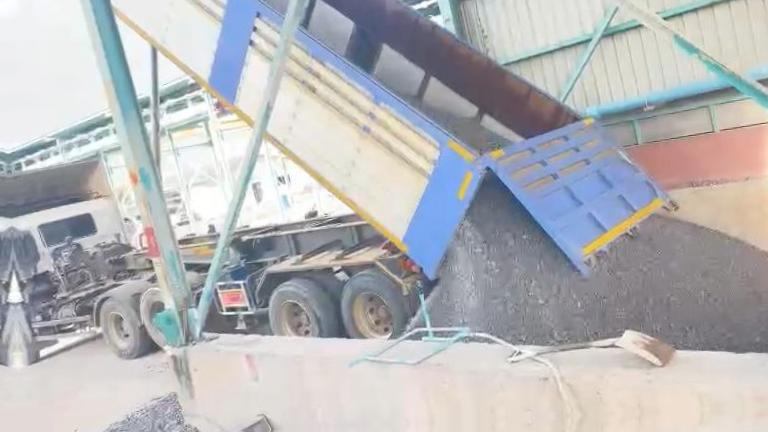gravel: (428, 178, 768, 351), (413, 99, 513, 151), (95, 393, 198, 432)
